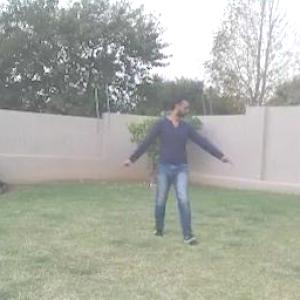land: (121, 80, 240, 244)
